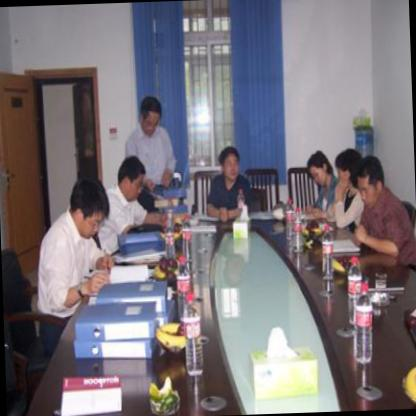head: (66, 173, 111, 242), (115, 154, 148, 204), (356, 153, 386, 208), (334, 145, 362, 197), (304, 148, 334, 194), (136, 92, 166, 134), (217, 142, 245, 186)
